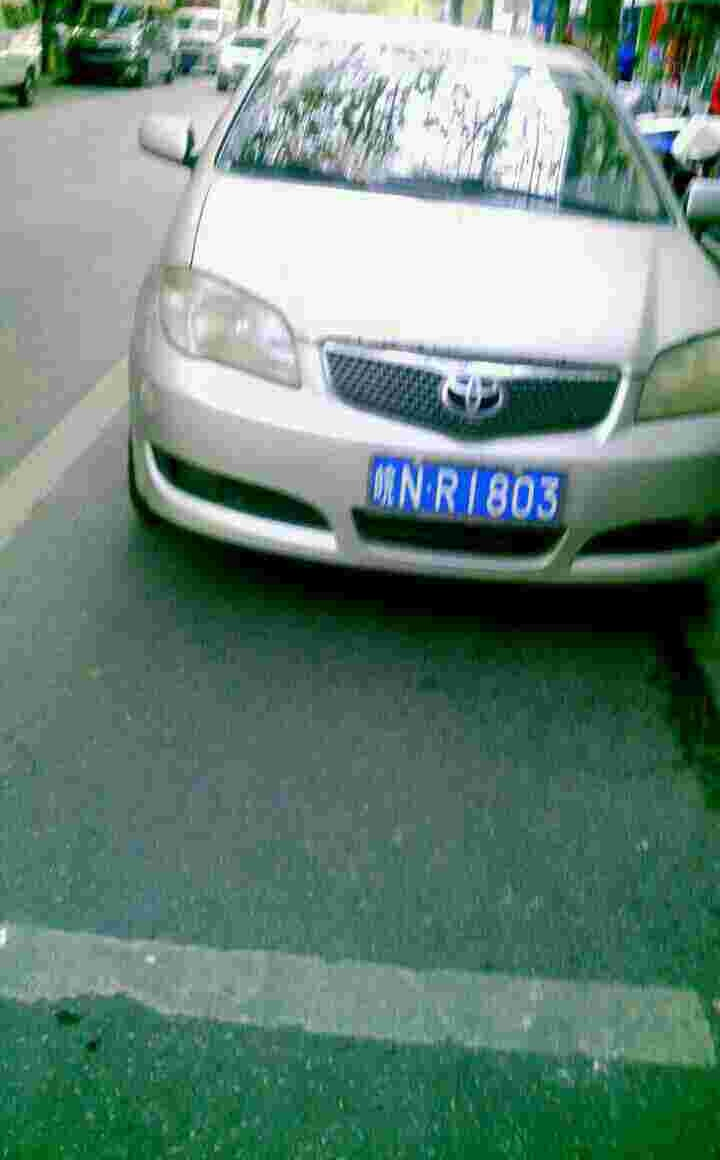license_plate: (363, 462, 561, 529)
